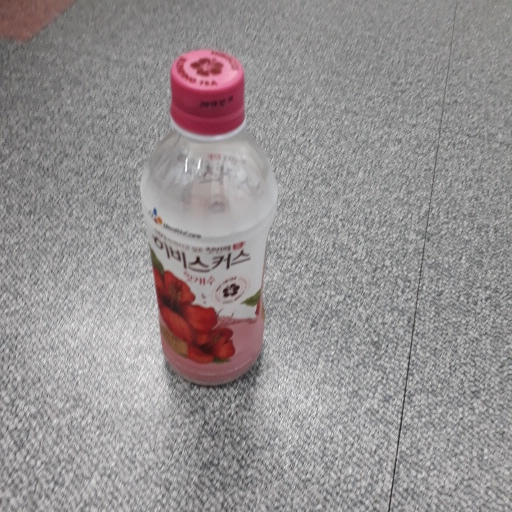Plastic_0: (138, 50, 281, 391)
